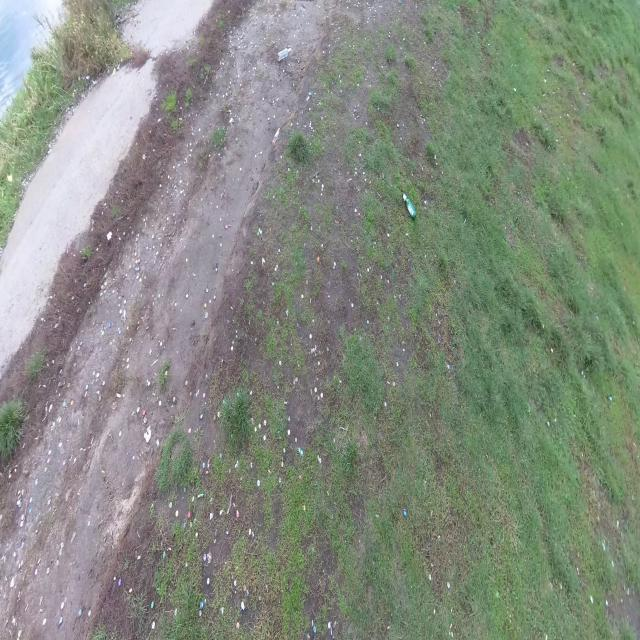rubbish: (401, 191, 418, 223), (276, 47, 292, 59)
